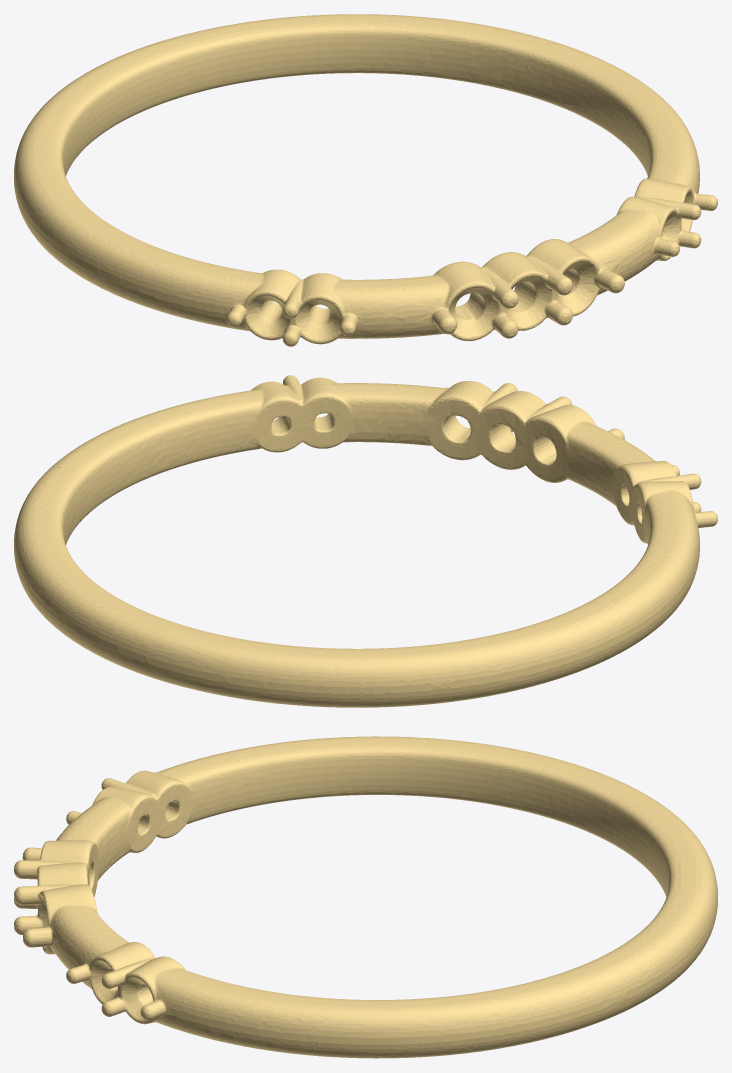
File: stack-band-a.glb
3 views of the same model, one above another, from view 1: azimuth 30°, elevation 25°; view 2: azimuth 150°, elevation 25°; view 3: azimuth 270°, elevation 25° (orthographic).
Parts seen in each view (by area): view 1: Metal Yellow Gold; view 2: Metal Yellow Gold; view 3: Metal Yellow Gold.
Boxes of the visible parts, bbox=[...] form: Metal Yellow Gold: bbox=[14, 14, 717, 346]; Metal Yellow Gold: bbox=[14, 375, 717, 707]; Metal Yellow Gold: bbox=[14, 736, 717, 1058].
Bounding box in the file's own units: 21.54 × 2.23 × 22.28.
